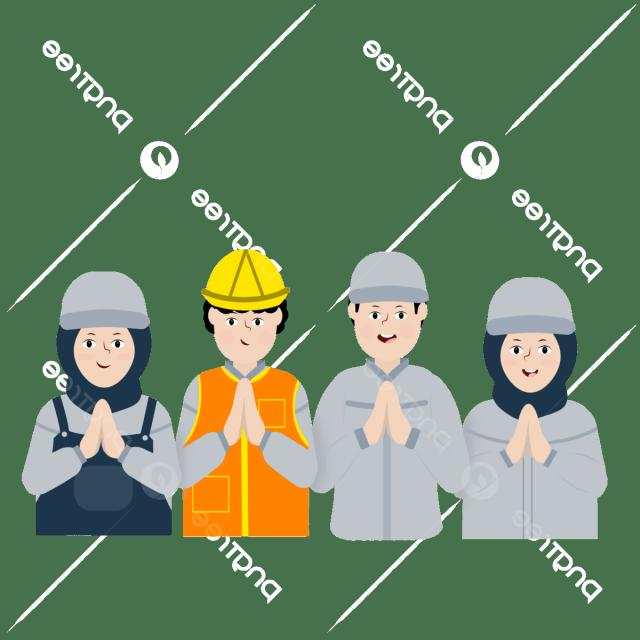Reflective-Jacket: (177, 359, 313, 518)
Safety-Helmet: (56, 267, 152, 333), (484, 275, 578, 339), (201, 247, 291, 311), (346, 248, 430, 305)
